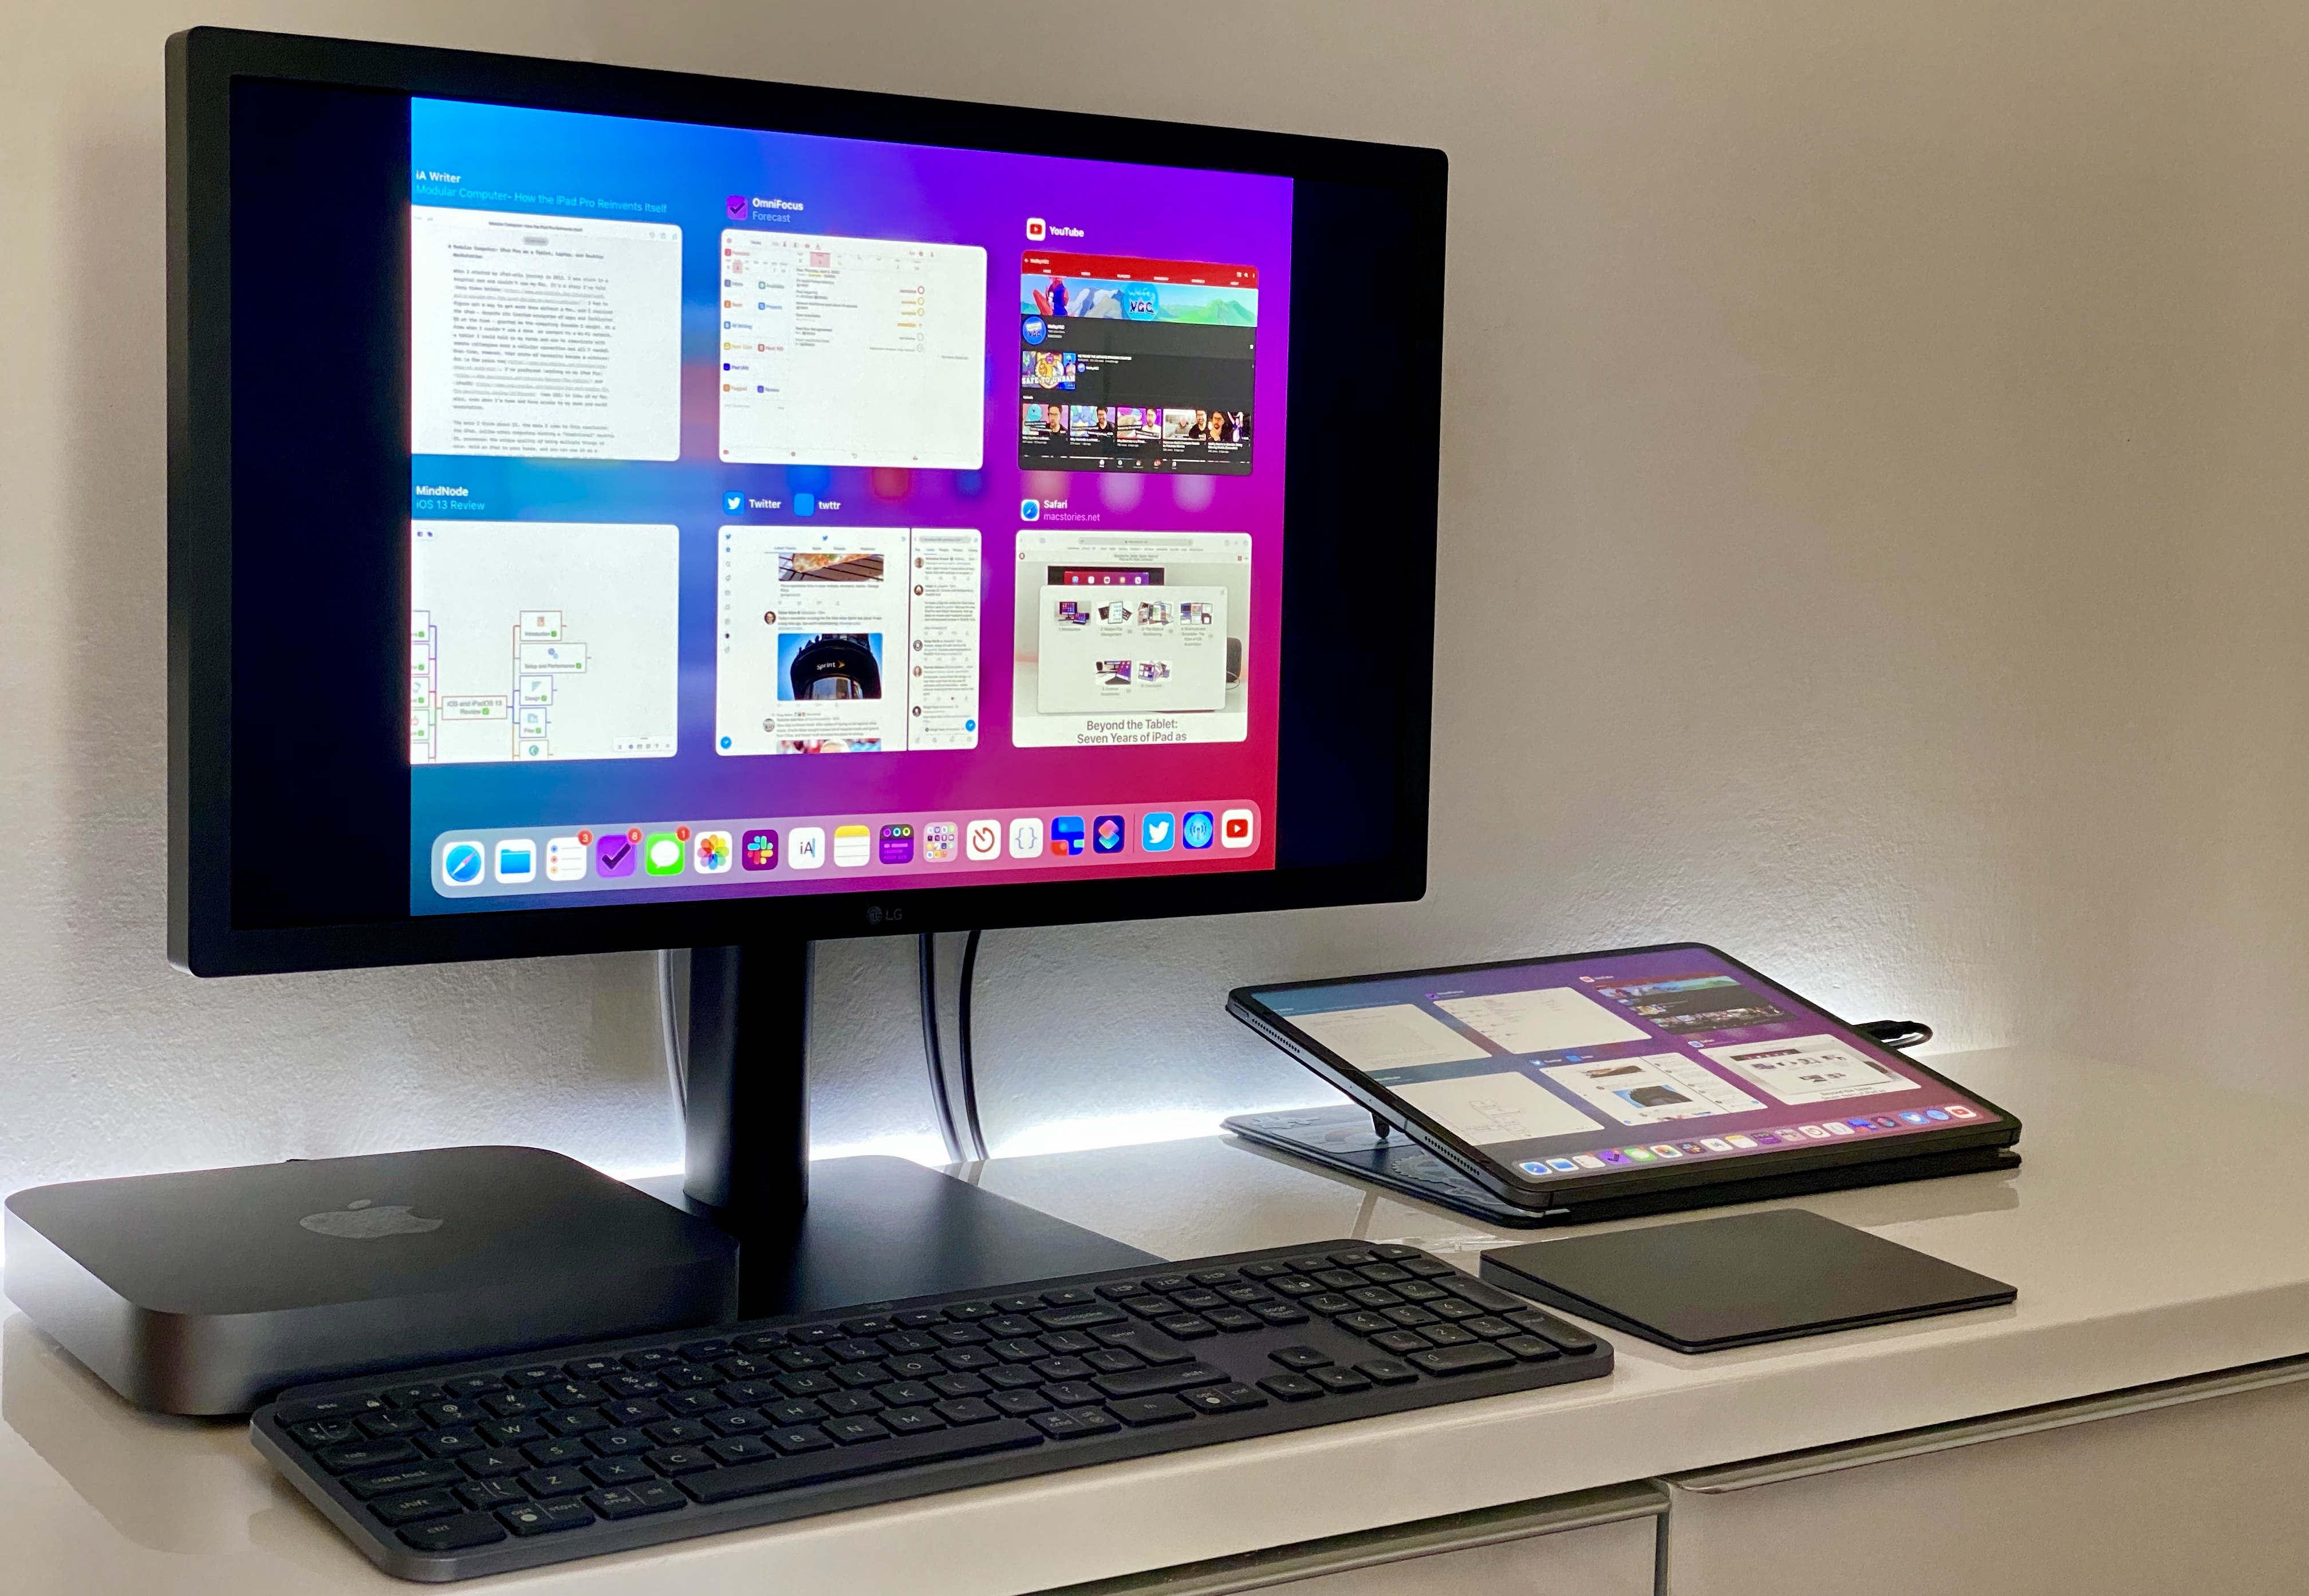Cell Phone: (1221, 945, 2046, 1212)
